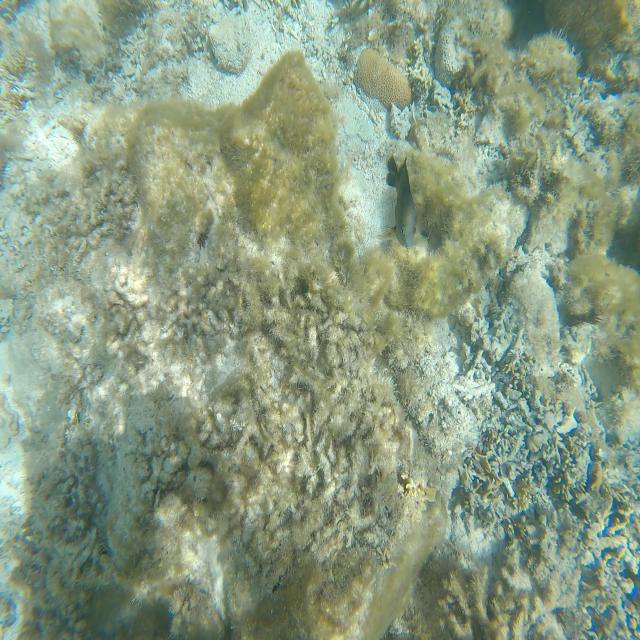kurohagi: (386, 156, 416, 248)
